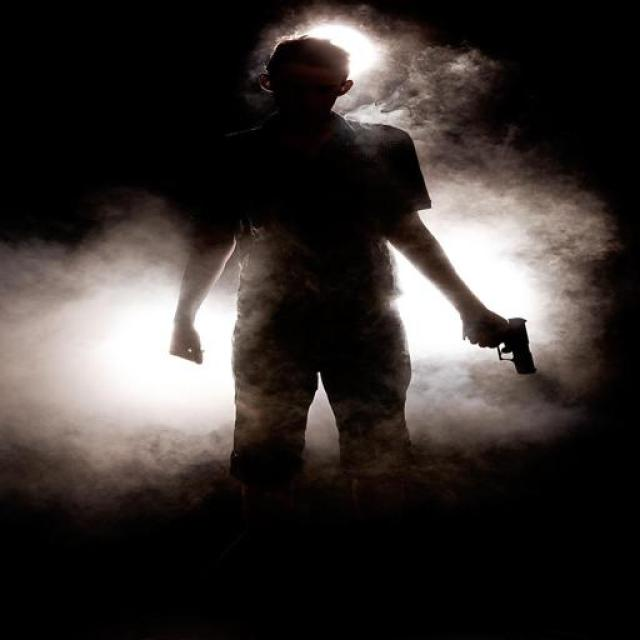pistol: (455, 313, 544, 378)
